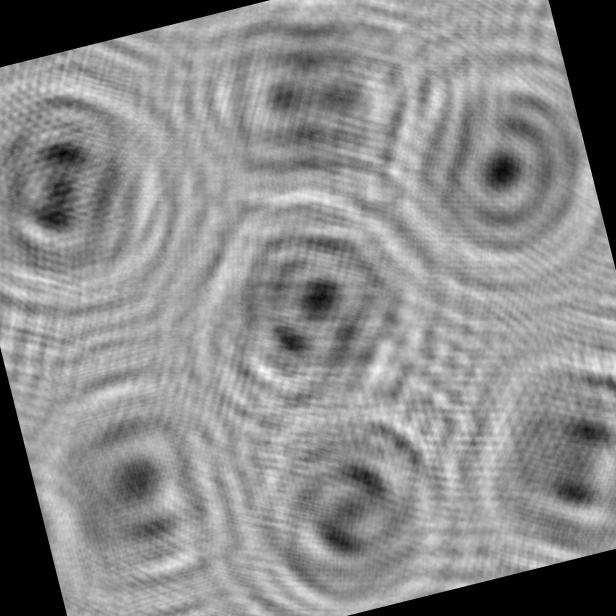B: (0, 27, 224, 331)
E: (418, 295, 616, 583)
F: (12, 343, 287, 616)
H: (153, 0, 461, 240)
P: (340, 9, 614, 314)
R: (138, 133, 478, 478)
S: (191, 349, 496, 616)
